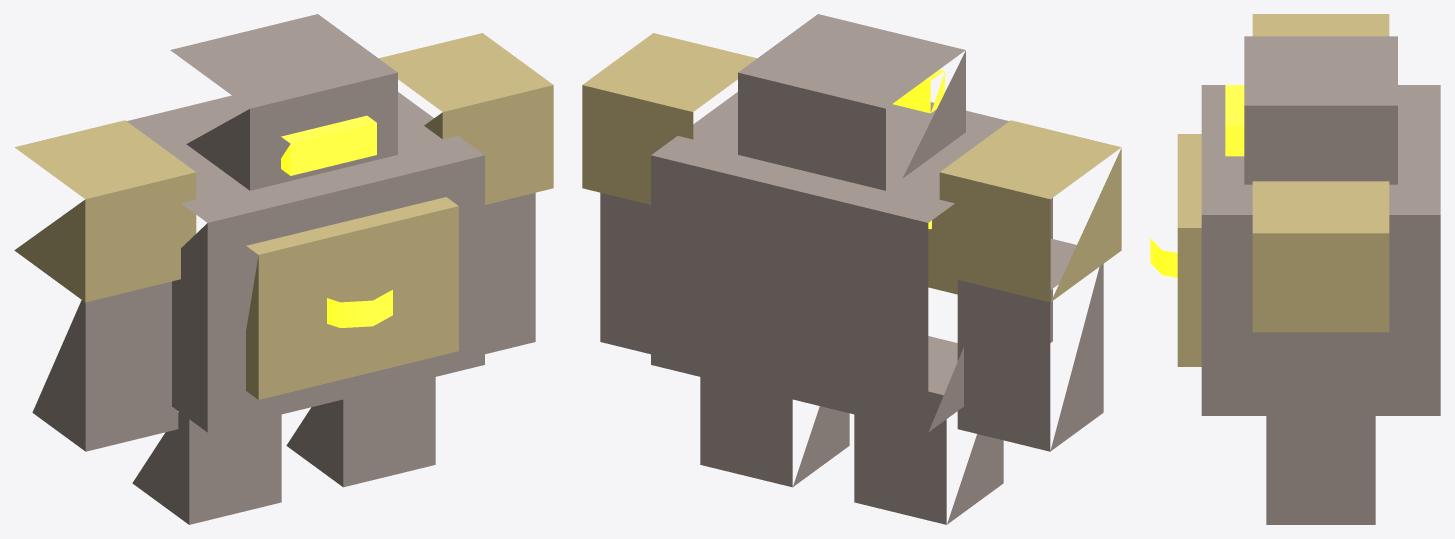
File: golem_mechanical_02.glb
The picture shows the model from 3 angles, left to right: view 1: azimuth 30°, elevation 25°; view 2: azimuth 150°, elevation 25°; view 3: azimuth 270°, elevation 25°; orthographic projection. The views are drawn at different scales.
Parts seen in each view (by area): view 1: MechanicalArmor, MechanicalGears, MechanicalGlow; view 2: MechanicalArmor, MechanicalGears, MechanicalGlow; view 3: MechanicalArmor, MechanicalGears, MechanicalGlow.
Part boxes in pixels (x1=…): MechanicalArmor: x1=32, y1=14, x2=535, y2=524; MechanicalGears: x1=14, y1=33, x2=553, y2=399; MechanicalGlow: x1=281, y1=115, x2=392, y2=327; MechanicalArmor: x1=600, y1=14, x2=1103, y2=524; MechanicalGears: x1=582, y1=33, x2=1121, y2=302; MechanicalGlow: x1=892, y1=69, x2=944, y2=229; MechanicalArmor: x1=1201, y1=36, x2=1440, y2=524; MechanicalGears: x1=1177, y1=14, x2=1389, y2=366; MechanicalGlow: x1=1150, y1=85, x2=1244, y2=277.
Bounding box in the file's own units: 1.52 × 1.28 × 0.85.
